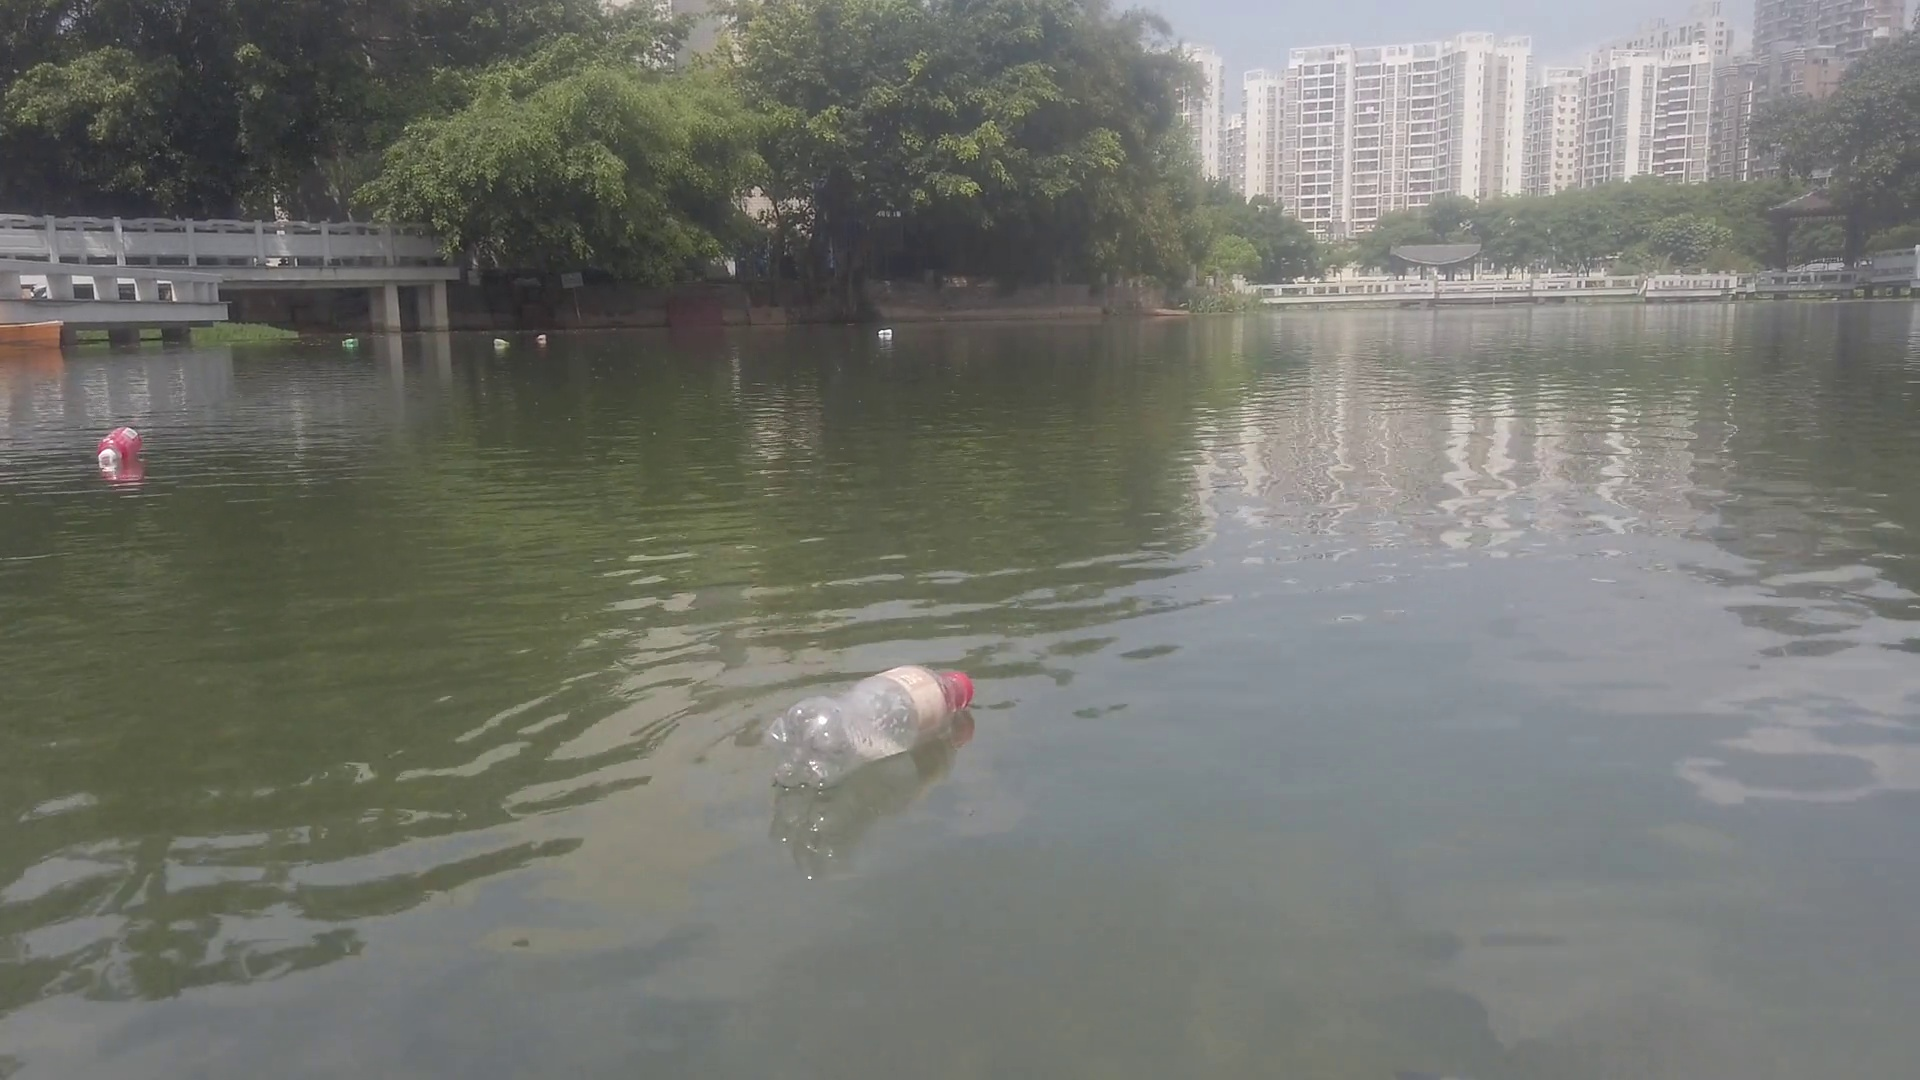bottle: (762, 655, 978, 798), (94, 421, 146, 471), (340, 334, 359, 348), (873, 324, 891, 339), (533, 328, 549, 342), (491, 335, 508, 347)
